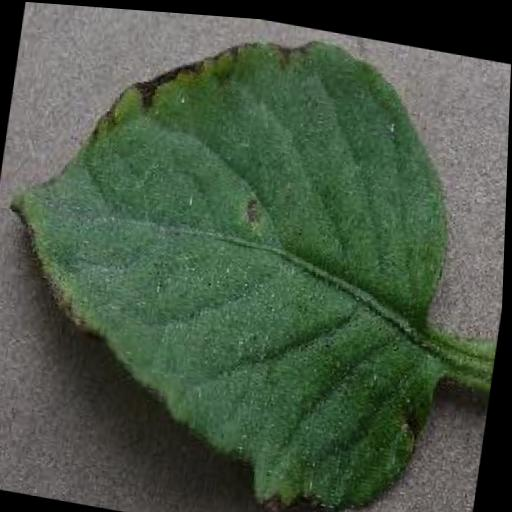Bacterial Spot: (0, 0, 487, 512)
